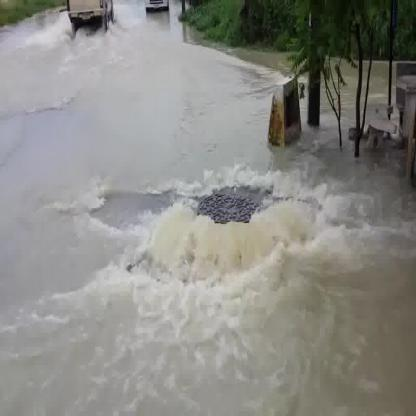drainage overflow-repair-: (190, 182, 266, 230)
